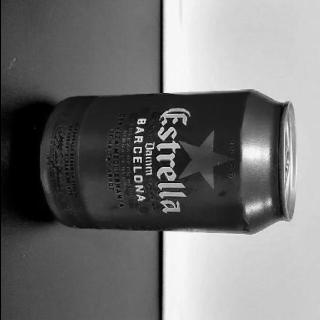alumunium_can: (33, 86, 300, 240)
